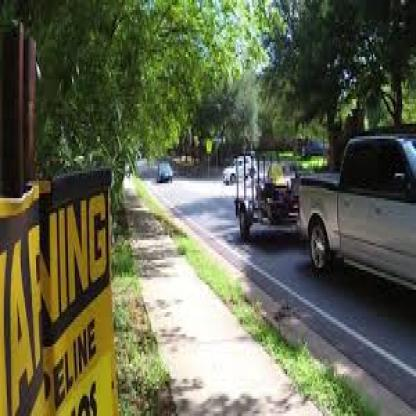car: (270, 98, 416, 326), (220, 152, 264, 186), (148, 153, 178, 193)
